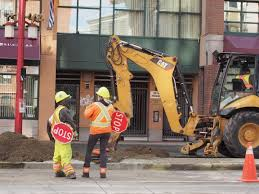excavator: (107, 34, 258, 160)
